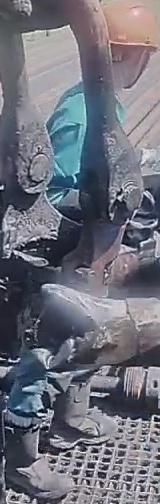helmet: (101, 1, 160, 49)
vest: (46, 81, 119, 194)
